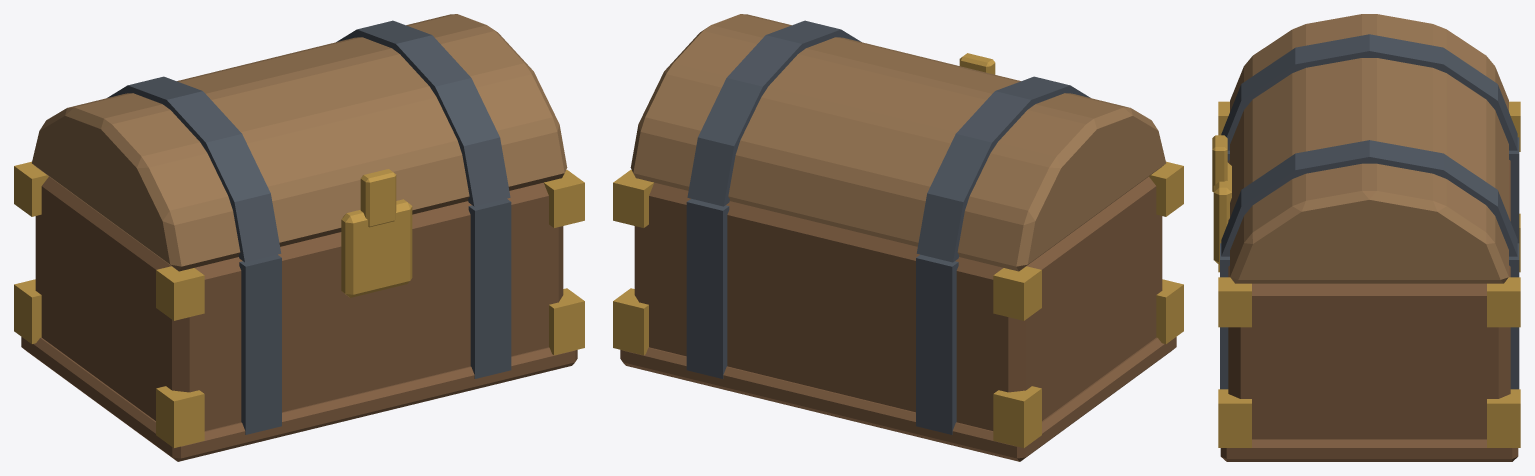
The model's file is Chest.fbx.
3 renders of one model, left to right at view 1: azimuth 30°, elevation 25°; view 2: azimuth 150°, elevation 25°; view 3: azimuth 270°, elevation 25°, orthographic. The views are drawn at different scales.
Parts seen in each view (by area): view 1: Box, Lid, Straps, Fittings; view 2: Box, Lid, Straps, Fittings; view 3: Lid, Box, Straps, Fittings.
Boxes of the visible parts, bbox=[...] form: Box: bbox=[21, 176, 577, 461]; Lid: bbox=[32, 14, 567, 271]; Straps: bbox=[107, 20, 511, 434]; Fittings: bbox=[14, 161, 584, 447]; Box: bbox=[620, 176, 1176, 461]; Lid: bbox=[630, 14, 1165, 271]; Straps: bbox=[686, 20, 1090, 434]; Fittings: bbox=[613, 53, 1183, 447]; Lid: bbox=[1230, 14, 1508, 283]; Box: bbox=[1220, 160, 1518, 461]; Straps: bbox=[1220, 34, 1519, 389]; Fittings: bbox=[1212, 101, 1520, 447].
Size of the model in its own units: 2.94 by 1.99 by 2.02.
